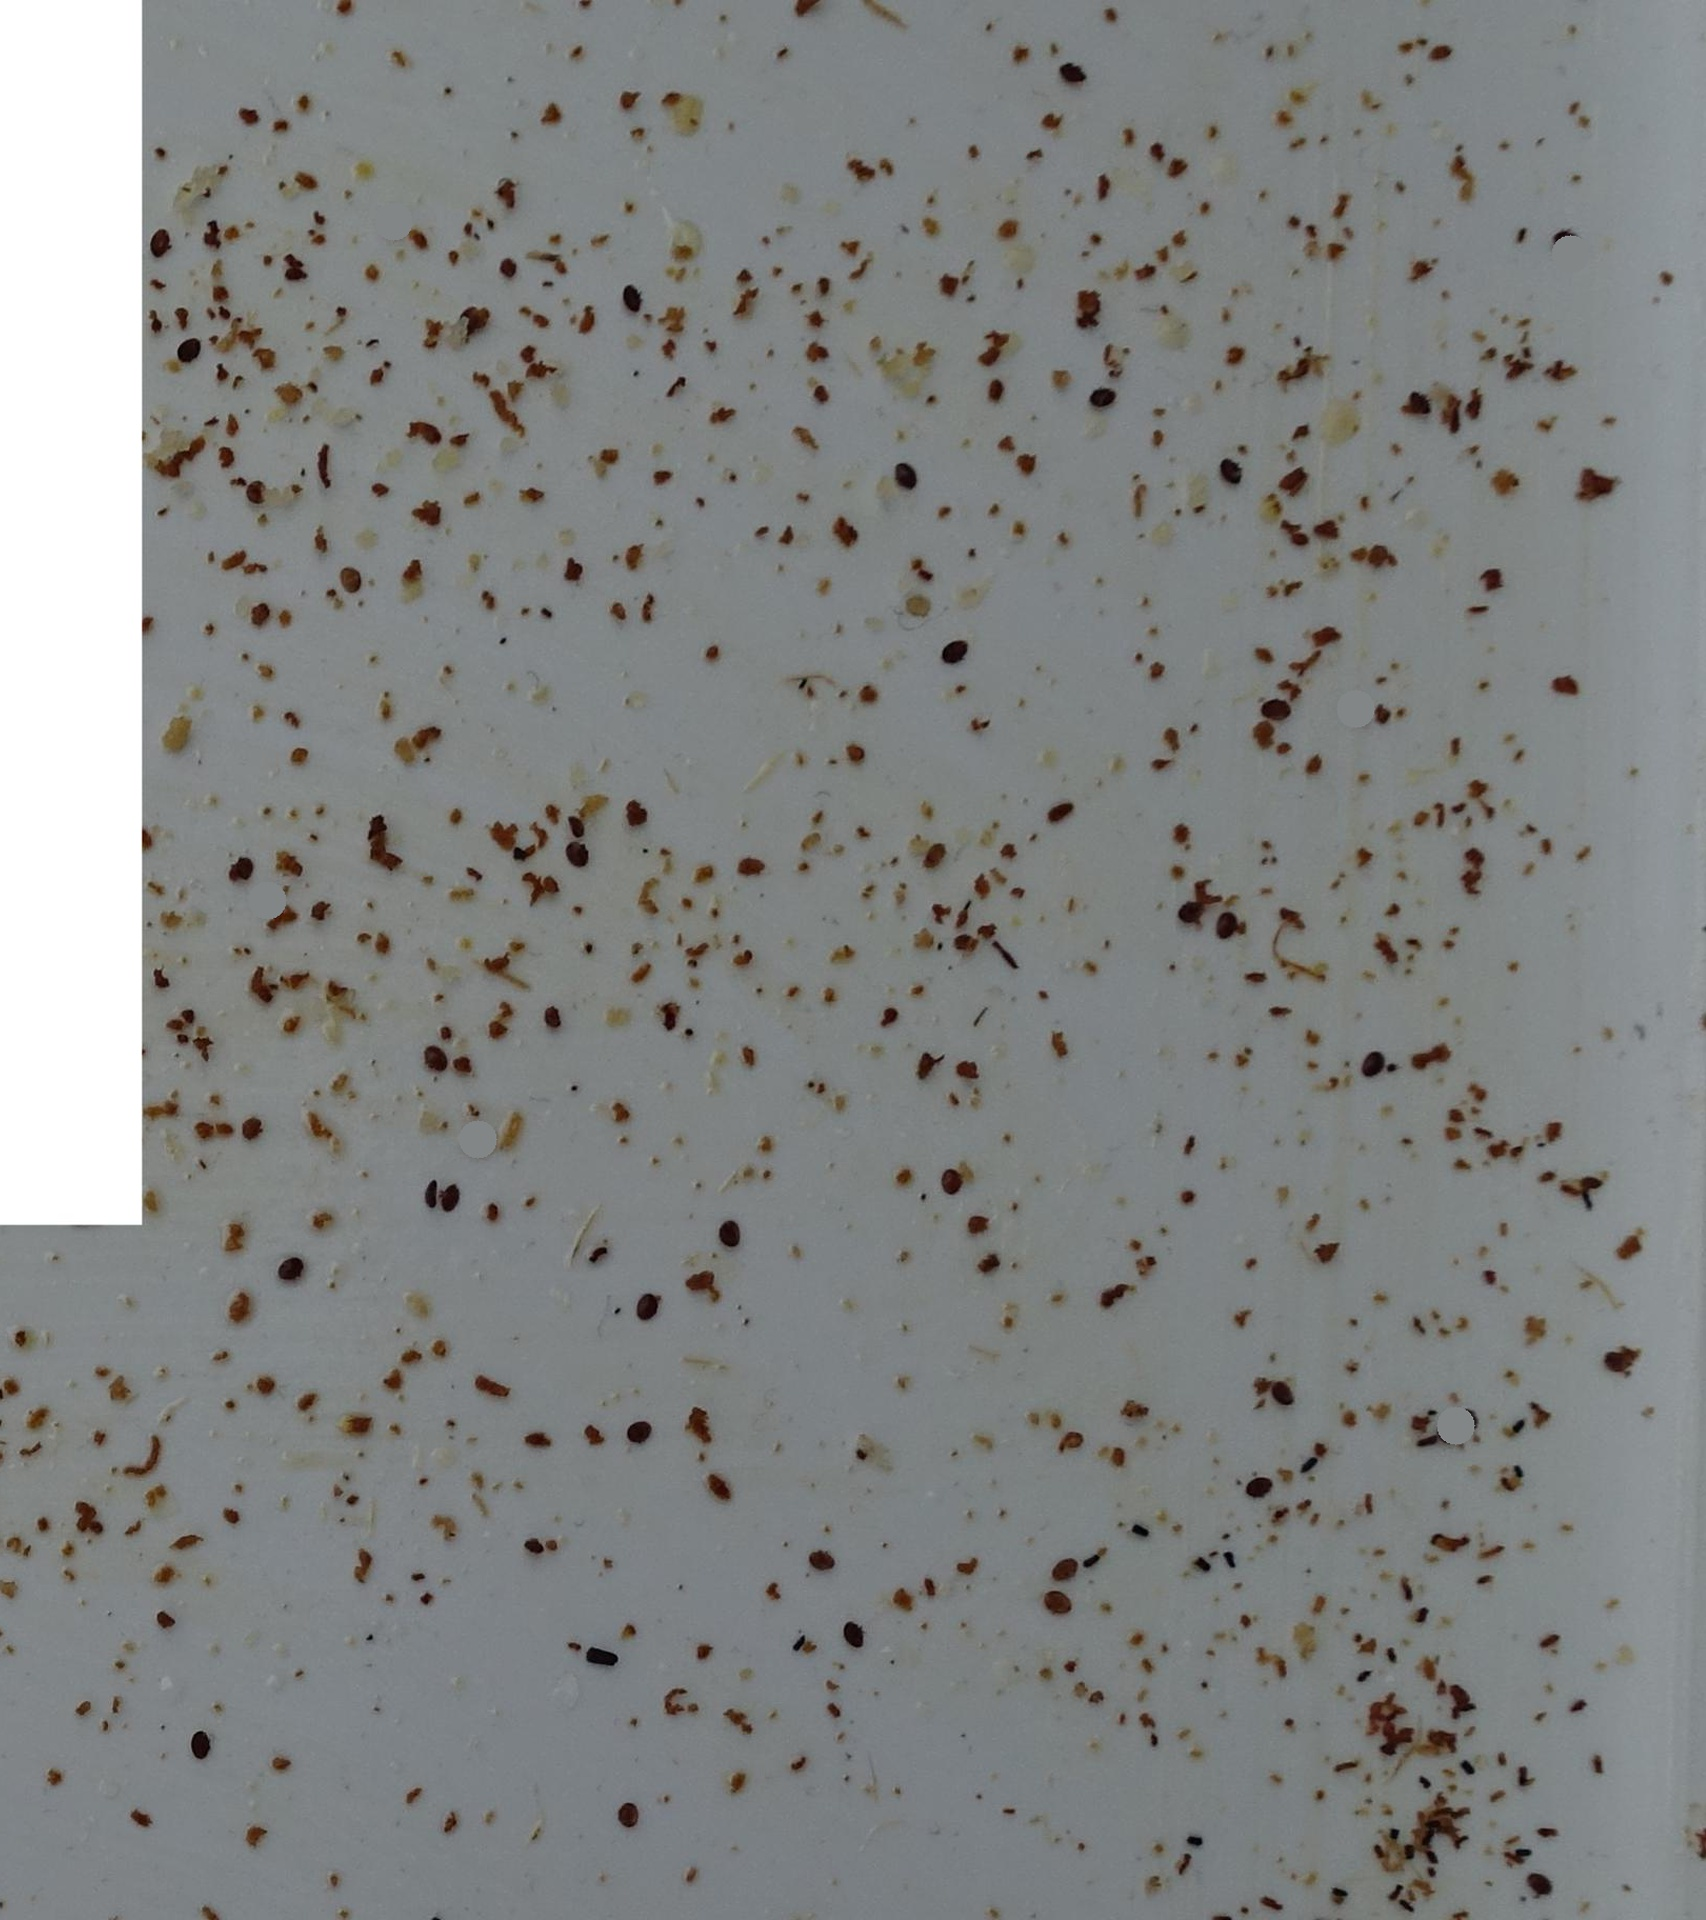Varroa: (1449, 1396, 1489, 1438), (1429, 1414, 1469, 1454), (841, 1619, 869, 1647), (1214, 912, 1242, 940), (1052, 1551, 1079, 1581), (428, 1179, 454, 1207), (1260, 697, 1288, 723), (619, 1805, 644, 1833), (1405, 390, 1429, 418), (813, 1545, 837, 1573), (1059, 59, 1084, 84), (1046, 1587, 1069, 1614), (148, 232, 171, 257), (1219, 458, 1242, 481), (1360, 1051, 1383, 1074), (1270, 1382, 1293, 1405), (227, 851, 250, 874), (627, 1416, 649, 1441), (565, 840, 586, 864), (940, 1166, 963, 1187), (1531, 1871, 1553, 1894), (1174, 902, 1196, 925), (721, 1222, 741, 1247), (245, 478, 267, 499), (896, 461, 917, 482), (425, 1047, 446, 1067), (343, 571, 362, 593), (1248, 1470, 1270, 1490), (1092, 387, 1112, 408), (179, 339, 199, 361), (280, 1258, 300, 1276), (952, 642, 963, 655), (647, 1303, 659, 1316), (1559, 235, 1571, 247), (631, 290, 642, 301), (198, 1739, 207, 1749)
